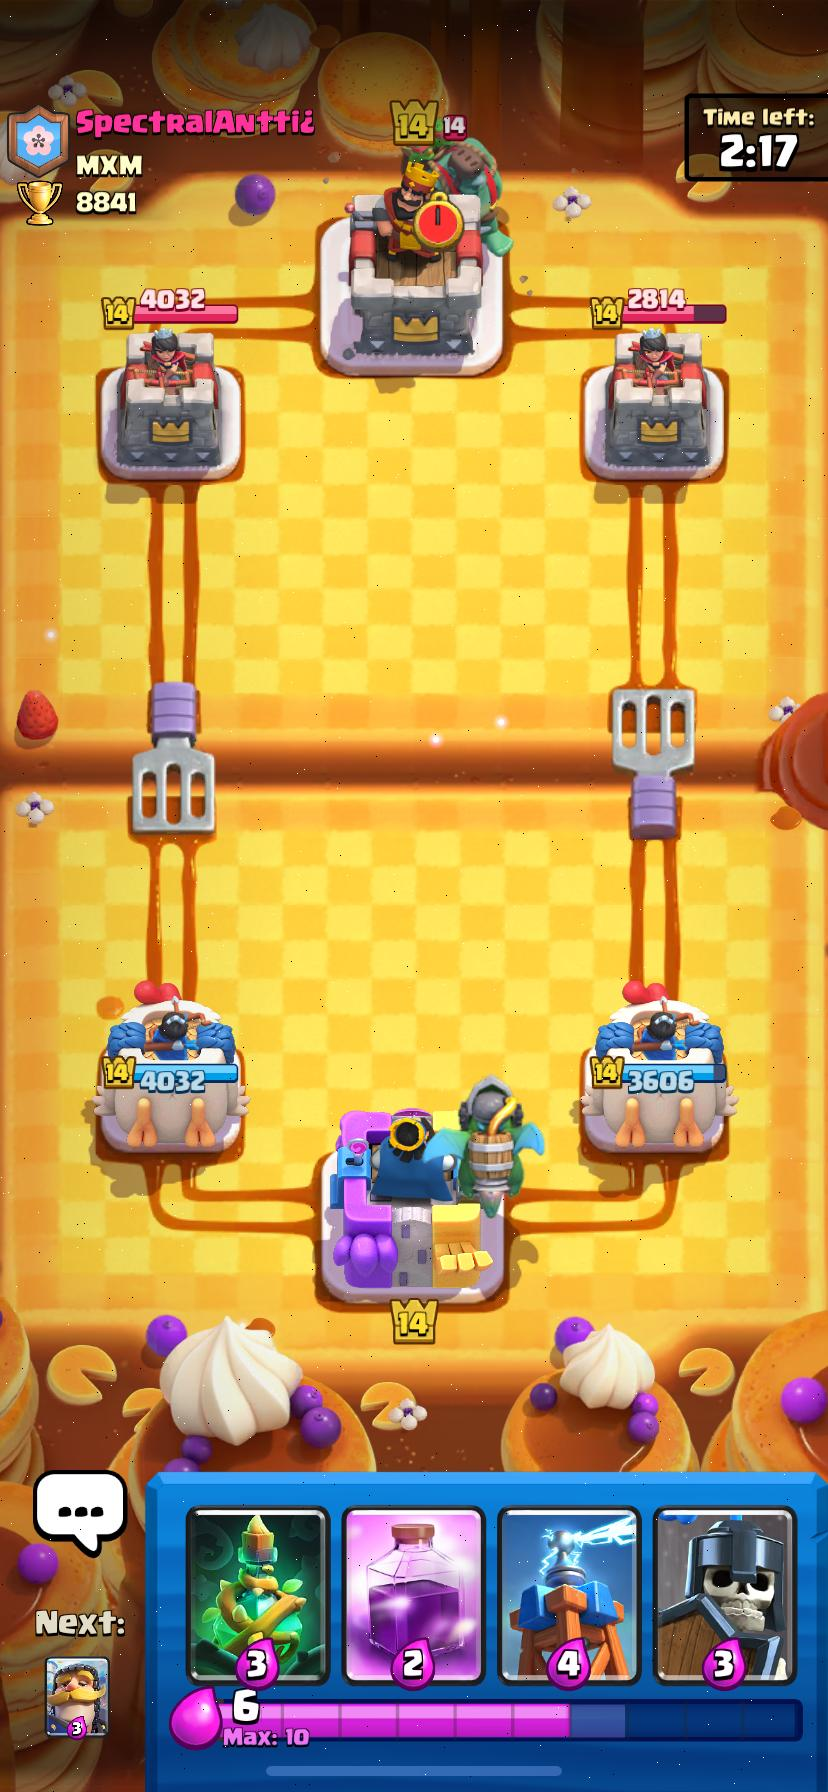EGoblinGiant: (397, 117, 512, 256)
EKingTower: (320, 166, 502, 377)
EnemyPrincessTower: (101, 327, 241, 481), (584, 329, 723, 480)
OInfernoDrag: (420, 1077, 543, 1217)
OwnKingTower: (315, 1109, 503, 1304)
OwnPrincessTower: (580, 982, 737, 1153), (93, 983, 248, 1152)
